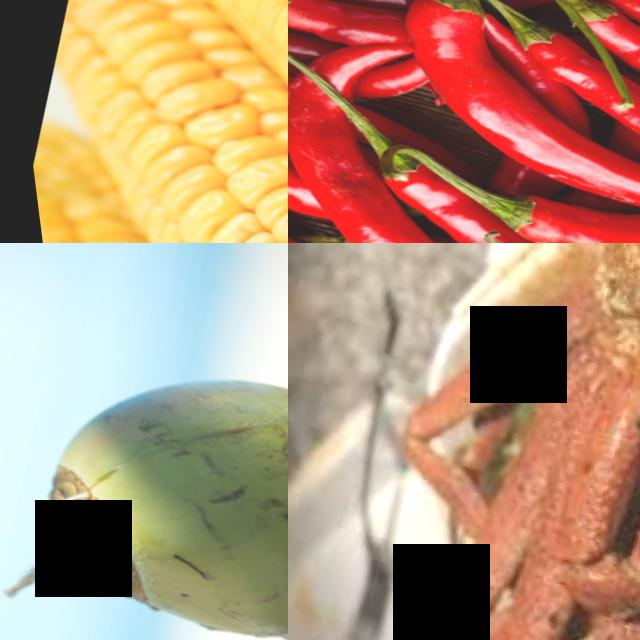chilli: (362, 0, 576, 174), (459, 156, 640, 243), (545, 0, 640, 117), (288, 0, 408, 69)
coconut: (0, 314, 288, 640)
corn: (0, 0, 288, 243)
crab: (373, 309, 640, 640)
